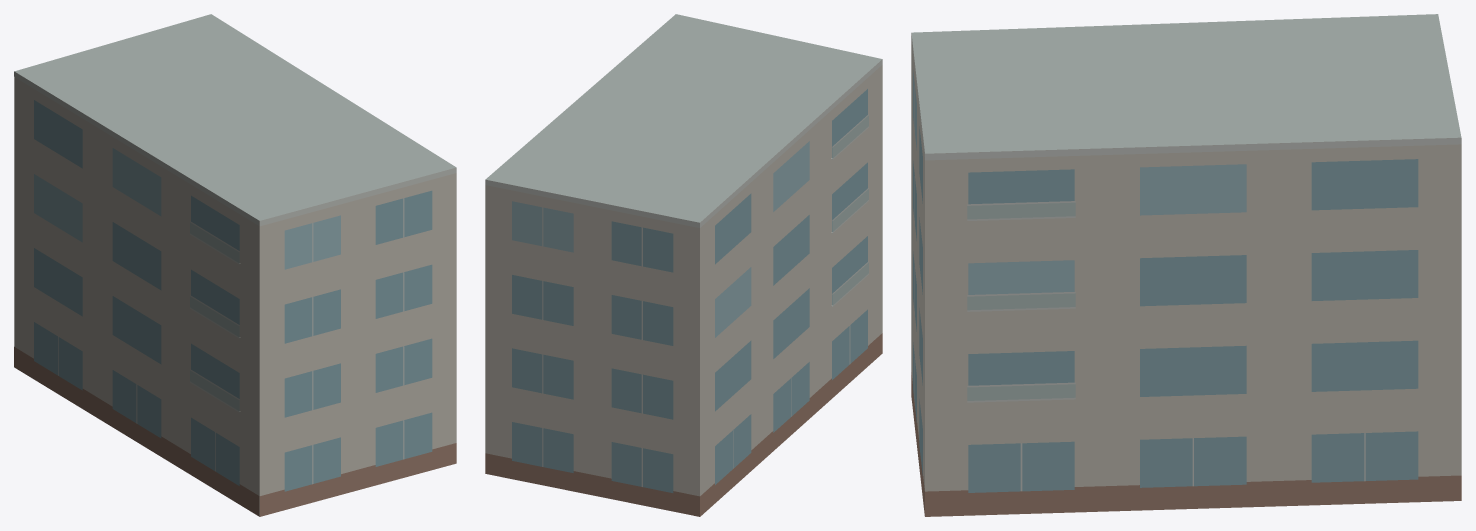
File: survey-upis-32630011.glb
3 renders of one model, left to right at view 1: azimuth 30°, elevation 25°; view 2: azimuth 150°, elevation 25°; view 3: azimuth 270°, elevation 25°, orthographic. The views are drawn at different scales.
Visible parts, largest first — view 1: survey-upis-32630011.tmp; view 2: survey-upis-32630011.tmp; view 3: survey-upis-32630011.tmp.
Part boxes in pixels (x1=…): survey-upis-32630011.tmp: x1=14, y1=14, x2=456, y2=516; survey-upis-32630011.tmp: x1=485, y1=14, x2=882, y2=516; survey-upis-32630011.tmp: x1=911, y1=14, x2=1461, y2=516.
Bounding box in the file's own units: 10.9 × 13.2 × 18.13.
